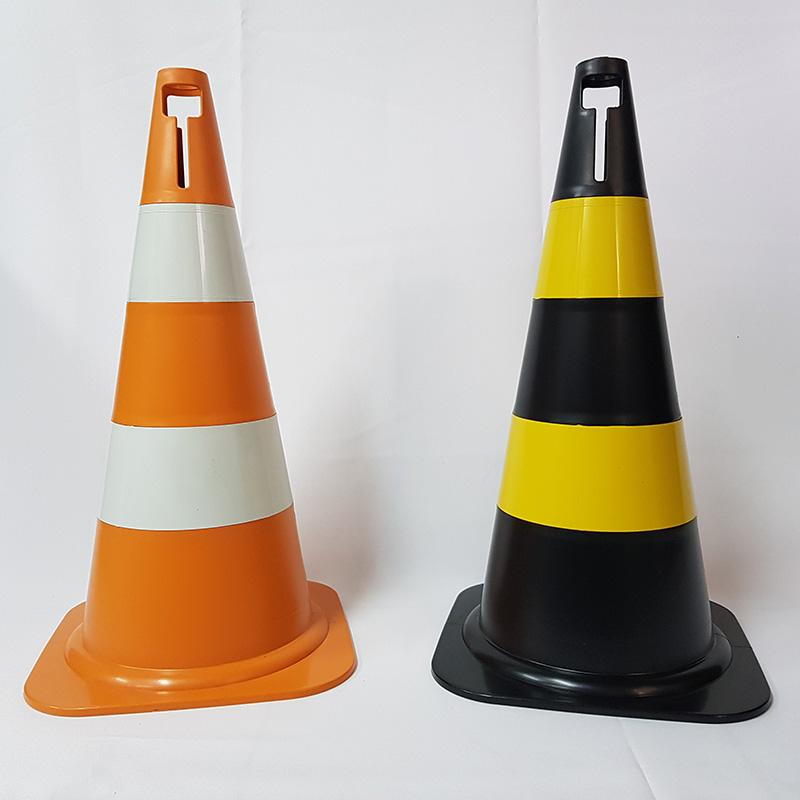traffic_cone: (430, 54, 773, 724), (23, 65, 358, 718)
